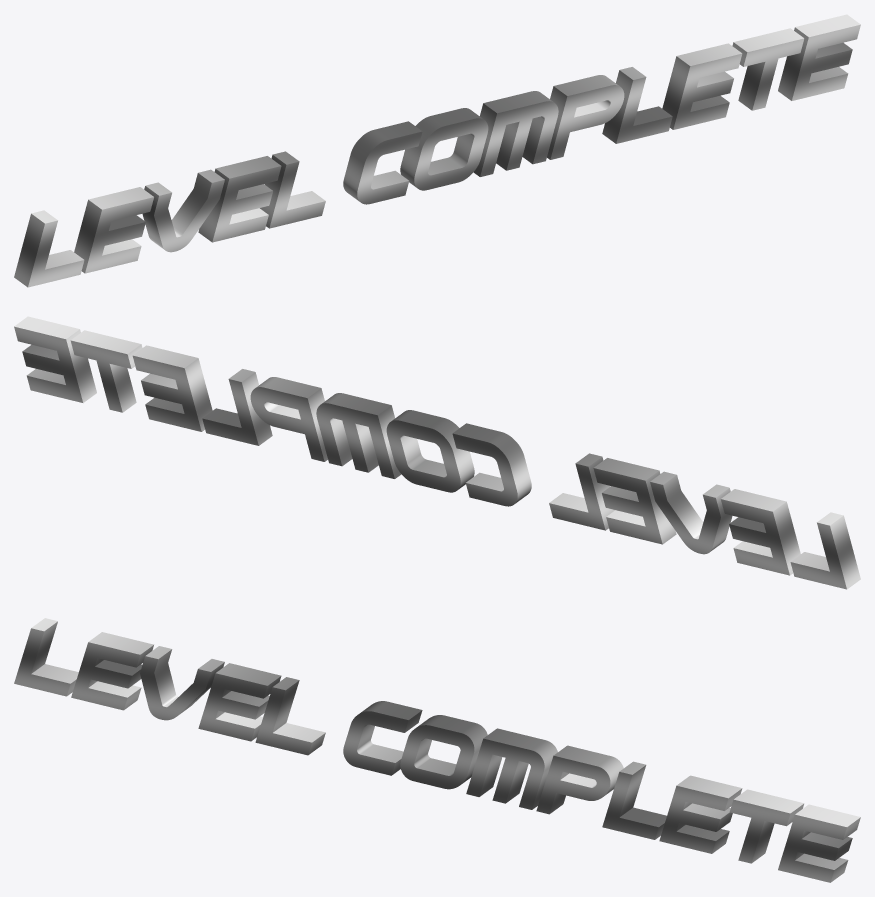
File: LevelCompleteText.FBX
3 renders of one model, top to bottom at view 1: azimuth 30°, elevation 25°; view 2: azimuth 150°, elevation 25°; view 3: azimuth 330°, elevation 25°, orthographic.
Parts seen in each view (by area): view 1: Text001; view 2: Text001; view 3: Text001.
Boxes of the visible parts, <box> form: Text001: <box>14,14,860,287</box>; Text001: <box>14,316,860,589</box>; Text001: <box>14,618,860,882</box>.
Size of the model in its own units: 949 by 65.1 by 27.46.
Materials: 1 (1 with a texture image).
